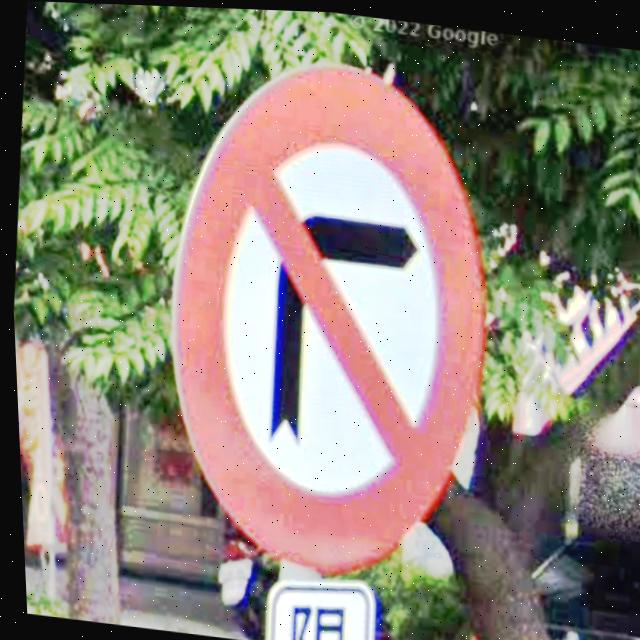noturnright: (166, 61, 481, 575)
